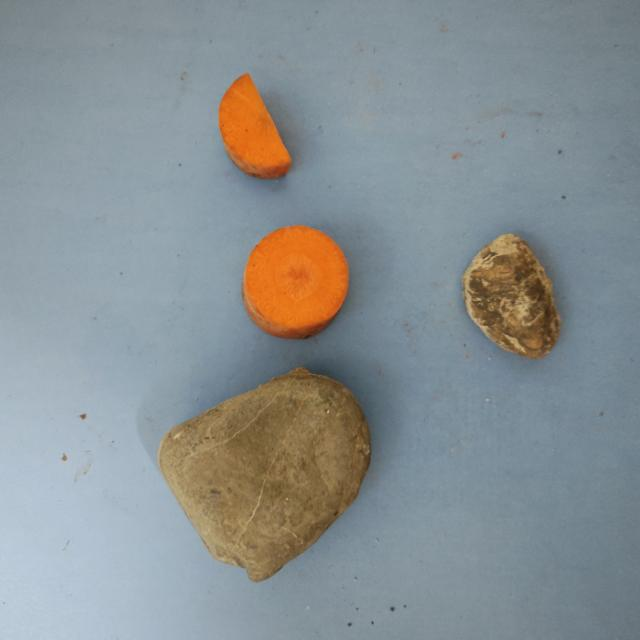-Kitchen waste - carrot-: (245, 219, 352, 336), (221, 71, 298, 173)
-Other waste - pebble-: (158, 371, 374, 578), (462, 235, 562, 358)
